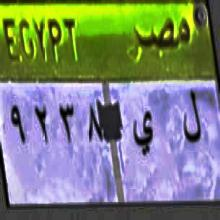2: (33, 98, 51, 149)
3: (56, 100, 76, 148)
8: (86, 101, 102, 152)
9: (9, 104, 29, 149)
laam: (178, 85, 202, 154)
yaa: (132, 106, 156, 165)
